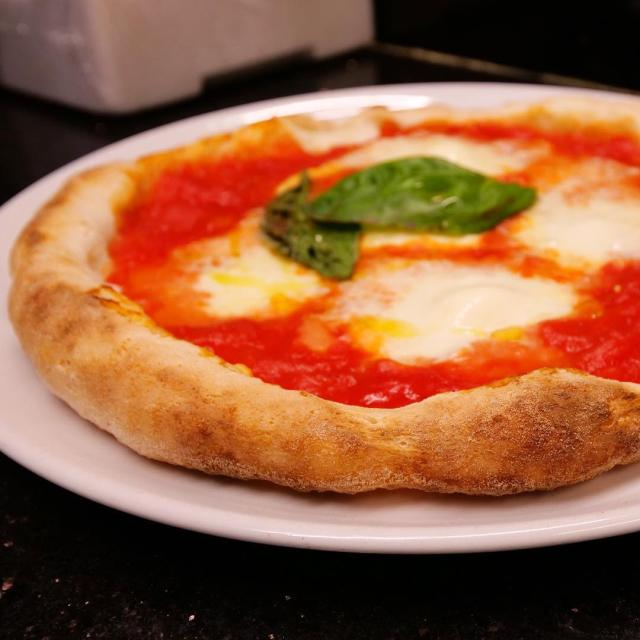basil: (262, 154, 543, 282)
pizza: (9, 101, 640, 494)
